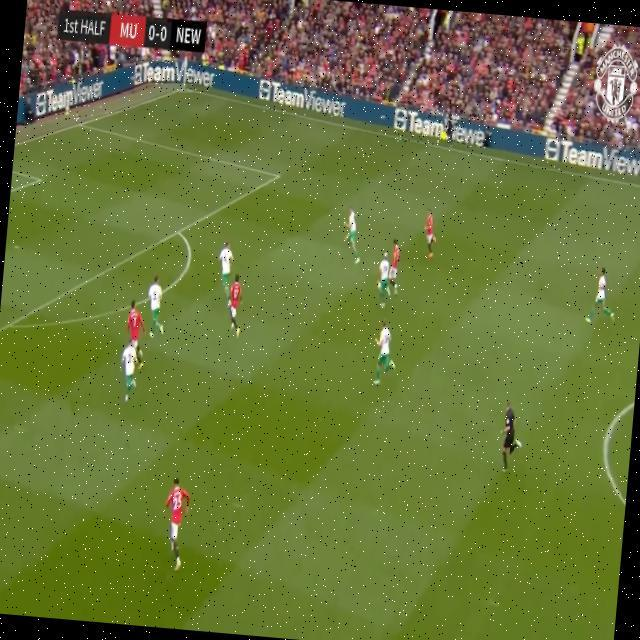TeamViewer: (392, 106, 492, 149), (544, 137, 640, 178), (259, 78, 348, 118), (35, 73, 104, 123), (133, 57, 216, 93)
